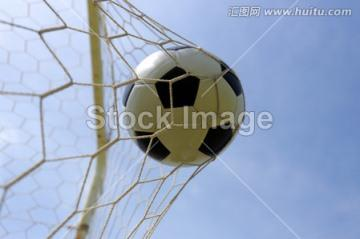football: (126, 43, 246, 171)
